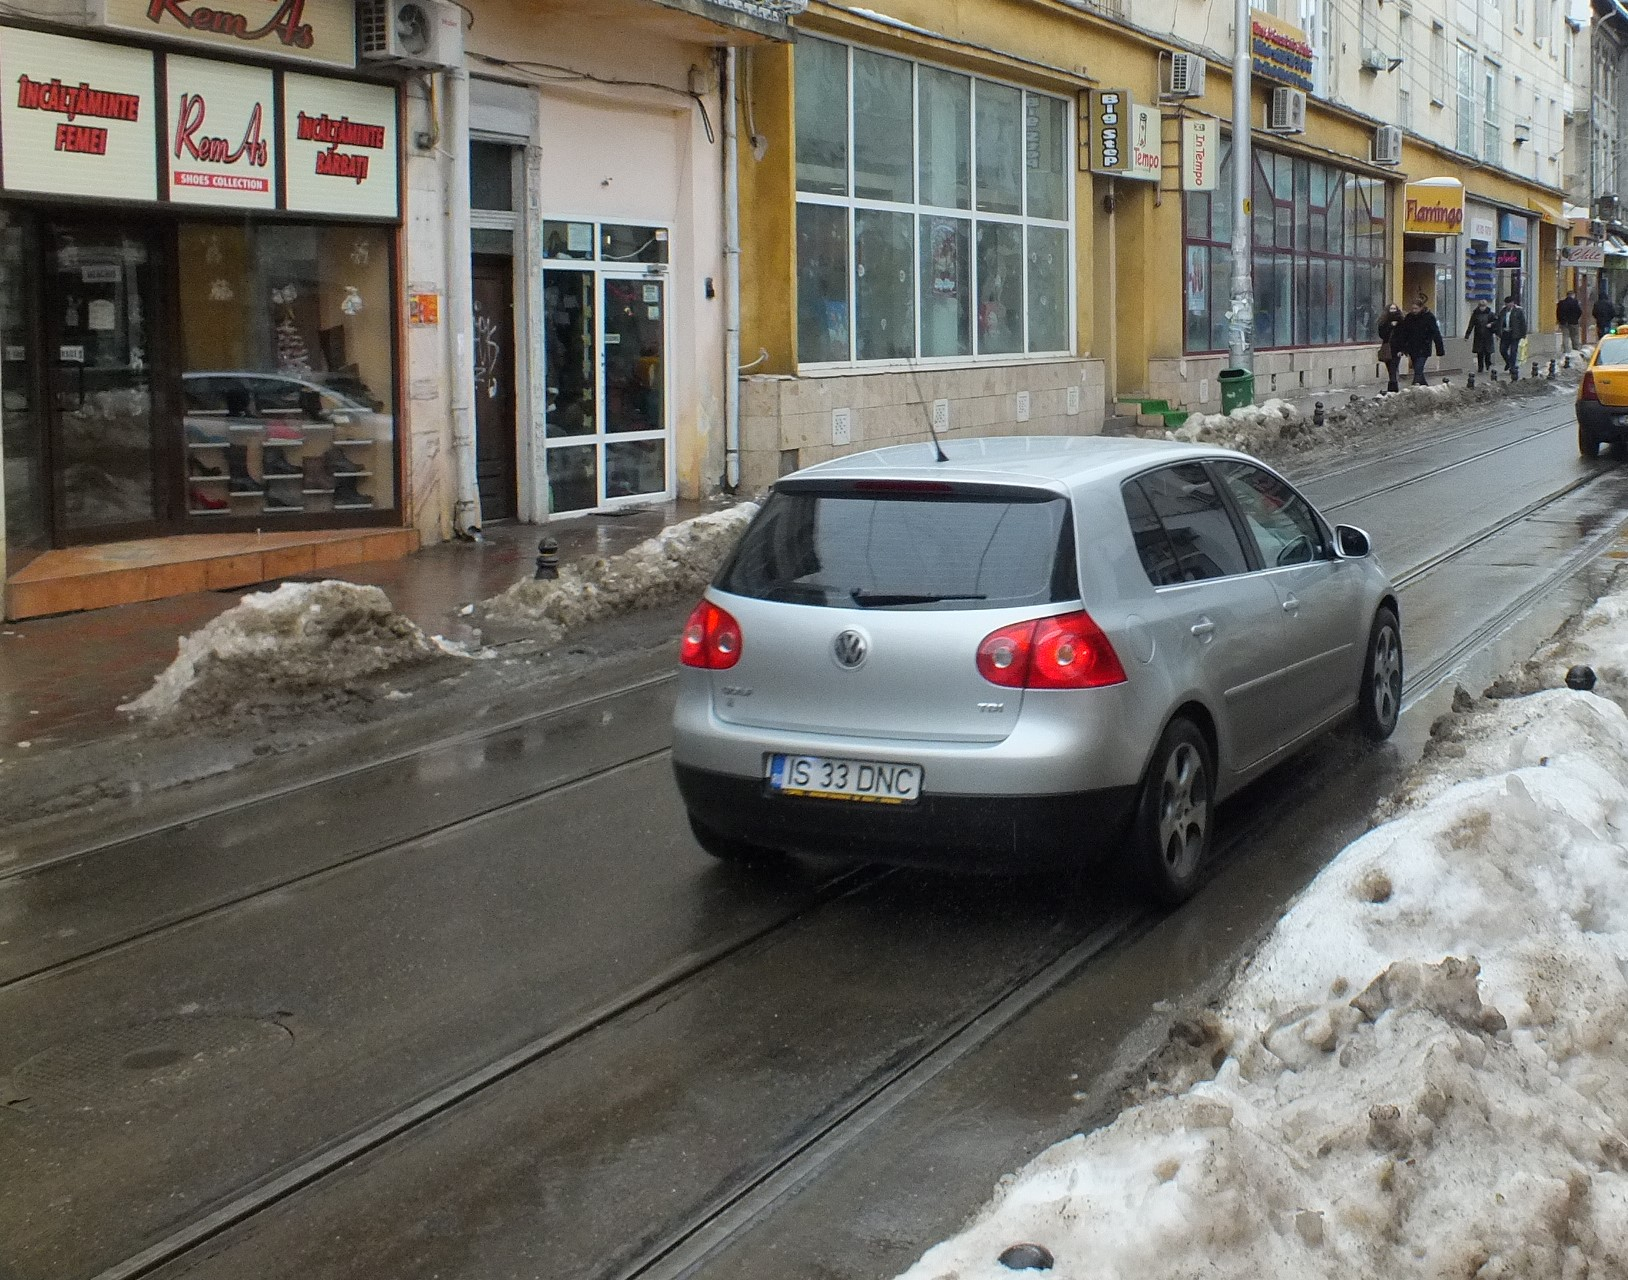IS33DNC: (762, 753, 932, 797)
